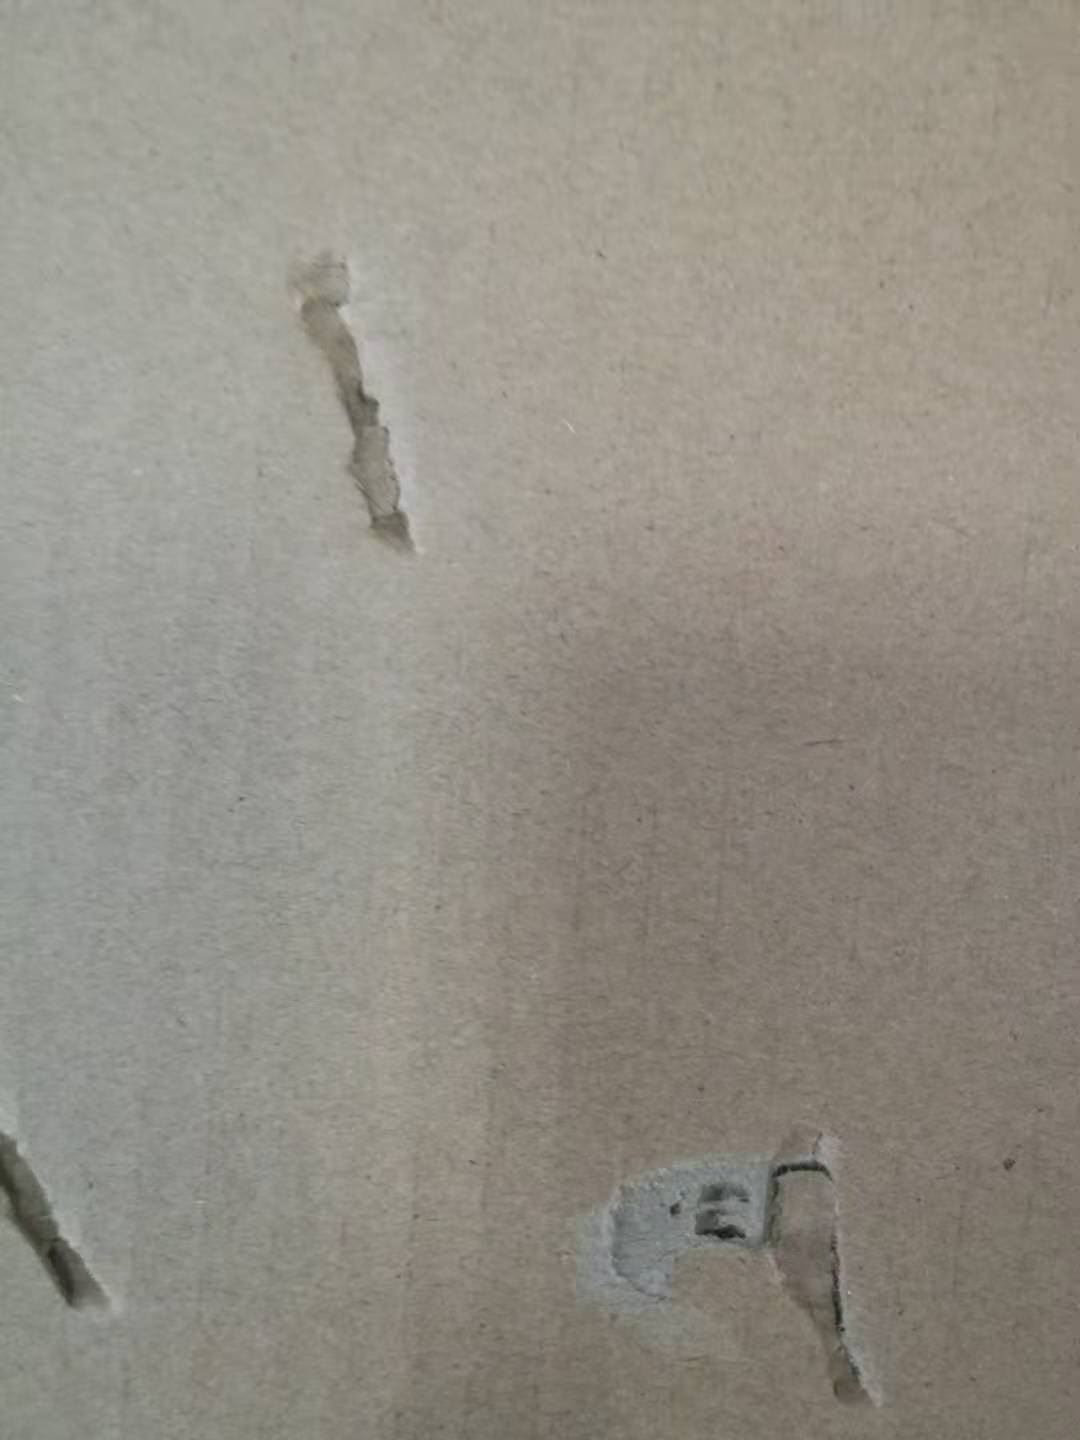defect: (560, 1098, 914, 1422), (260, 215, 479, 599), (1, 1092, 145, 1342)
